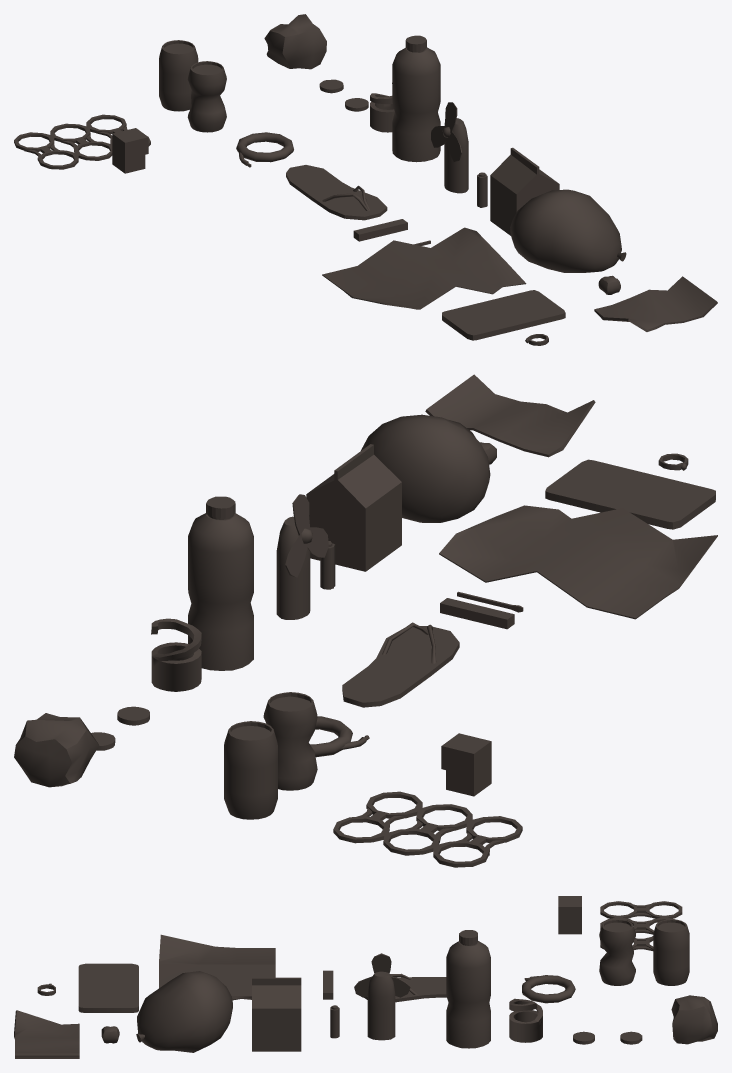
Rendered from combat_items.obj.
The picture shows the model from 3 angles, top to bottom: view 1: azimuth 30°, elevation 25°; view 2: azimuth 150°, elevation 25°; view 3: azimuth 270°, elevation 25°; orthographic projection. The views are drawn at different scales.
Visible parts, largest first — view 1: paper, balloon, water_bottle, phone, cardboard, milk, shoe, rock, empty_can, rings, can, fan (+4 smaller); view 2: paper, water_bottle, balloon, milk, phone, cardboard, shoe, rings, can, rock, fan, empty_can (+4 smaller); view 3: balloon, water_bottle, paper, milk, phone, fan, cardboard, can, empty_can, rock, rings, spring (+6 smaller).
Part boxes in pixels (bbox=[...]): paper: bbox=[322, 227, 526, 309]; balloon: bbox=[510, 189, 626, 272]; water_bottle: bbox=[392, 35, 440, 162]; phone: bbox=[442, 290, 565, 340]; cardboard: bbox=[594, 276, 717, 331]; milk: bbox=[490, 147, 559, 235]; shoe: bbox=[286, 165, 387, 220]; rock: bbox=[264, 14, 326, 69]; empty_can: bbox=[187, 61, 226, 132]; rings: bbox=[14, 114, 150, 169]; can: bbox=[159, 40, 198, 111]; fan: bbox=[431, 102, 468, 193]; paper: bbox=[439, 505, 717, 619]; water_bottle: bbox=[188, 496, 253, 670]; balloon: bbox=[361, 414, 490, 522]; milk: bbox=[306, 444, 401, 571]; phone: bbox=[545, 459, 715, 529]; cardboard: bbox=[425, 374, 595, 457]; shoe: bbox=[342, 622, 459, 707]; rings: bbox=[333, 791, 522, 867]; can: bbox=[224, 721, 277, 819]; rock: bbox=[14, 713, 99, 787]; fan: bbox=[276, 494, 328, 619]; empty_can: bbox=[263, 692, 317, 790]; balloon: bbox=[136, 971, 232, 1052]; water_bottle: bbox=[446, 930, 490, 1048]; paper: bbox=[159, 934, 275, 1000]; milk: bbox=[252, 977, 301, 1051]; phone: bbox=[78, 963, 138, 1012]; fan: bbox=[354, 953, 410, 1040]; cardboard: bbox=[14, 1010, 79, 1058]; can: bbox=[653, 919, 689, 985]; empty_can: bbox=[599, 919, 635, 985]; rock: bbox=[671, 995, 717, 1044]; rings: bbox=[600, 901, 682, 950]; spring: bbox=[509, 998, 542, 1042].
Size of the model in its own units: 0.0422 by 0.0135 by 0.0772.
